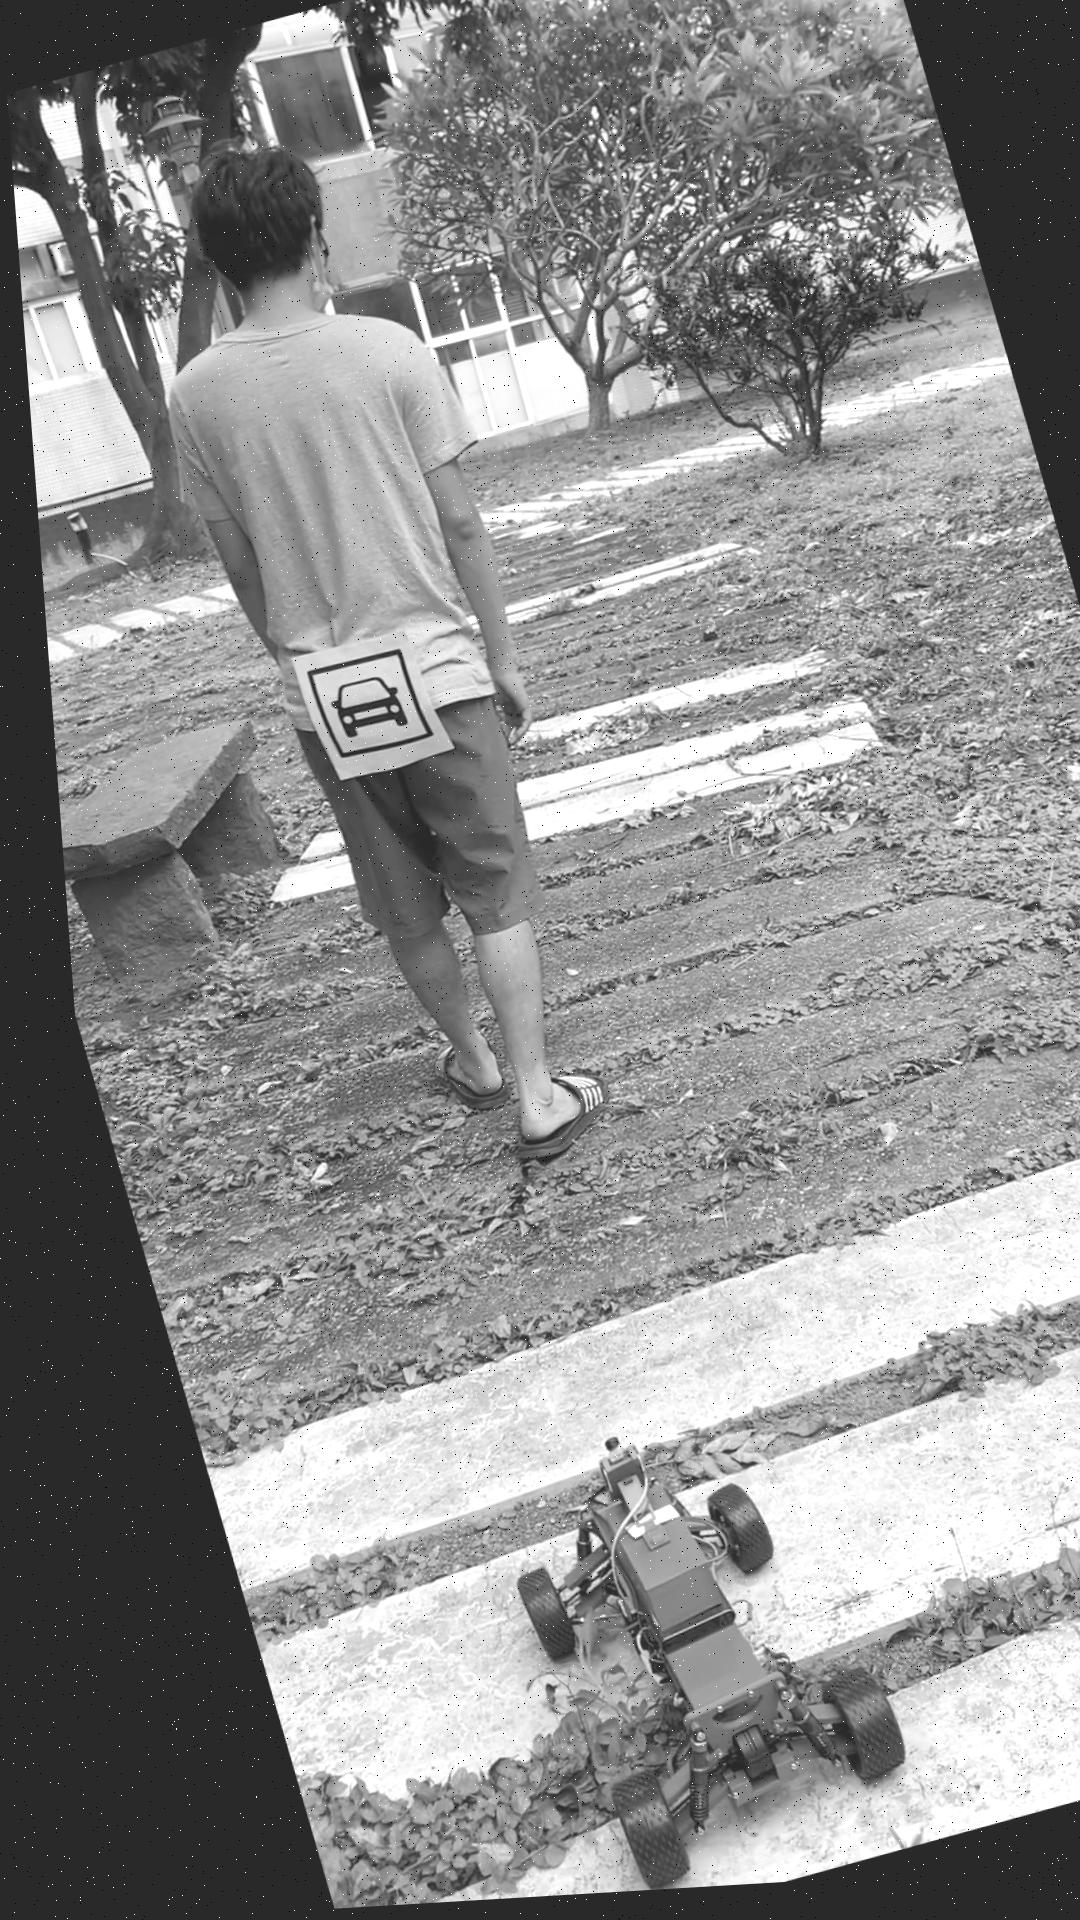car_img: (293, 646, 423, 769)
